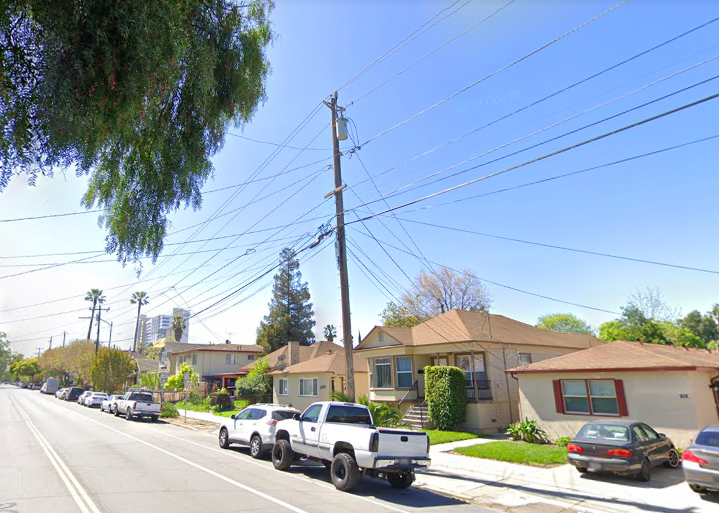utility_pole: (311, 85, 366, 202)
